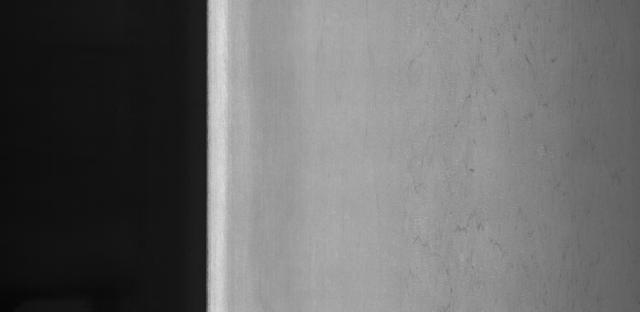silk_spot: (411, 0, 589, 305)
